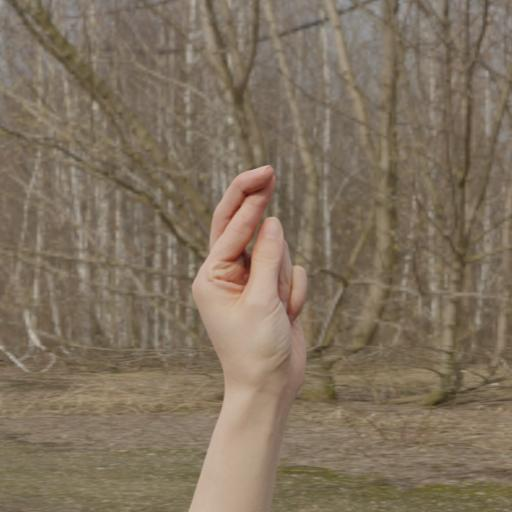R: (188, 161, 319, 412)
